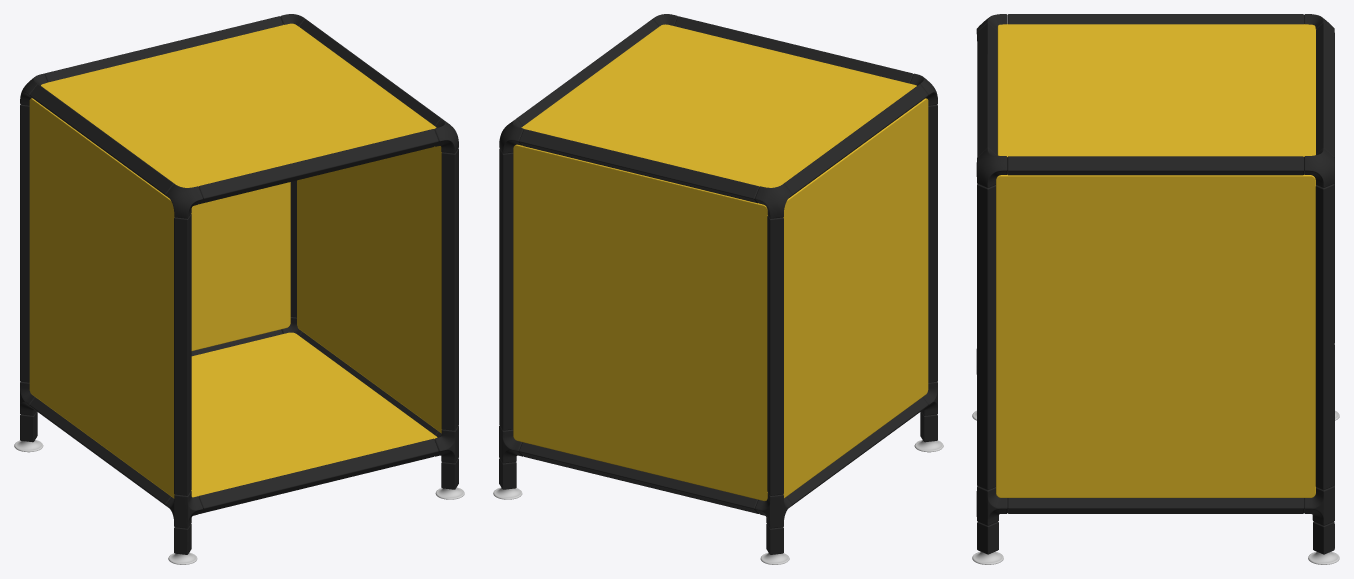
3 renders of one model, left to right at view 1: azimuth 30°, elevation 25°; view 2: azimuth 150°, elevation 25°; view 3: azimuth 270°, elevation 25°, orthographic. The views are drawn at different scales.
Parts seen in each view (by area): view 1: 374x374x420; view 2: 374x374x420; view 3: 374x374x420.
Boxes of the visible parts, x1,y1,x2,y2 form: 374x374x420: [14, 14, 464, 564]; 374x374x420: [493, 14, 943, 564]; 374x374x420: [972, 14, 1339, 564].
Size of the model in its own units: 0.4639 by 0.5593 by 0.4632.
